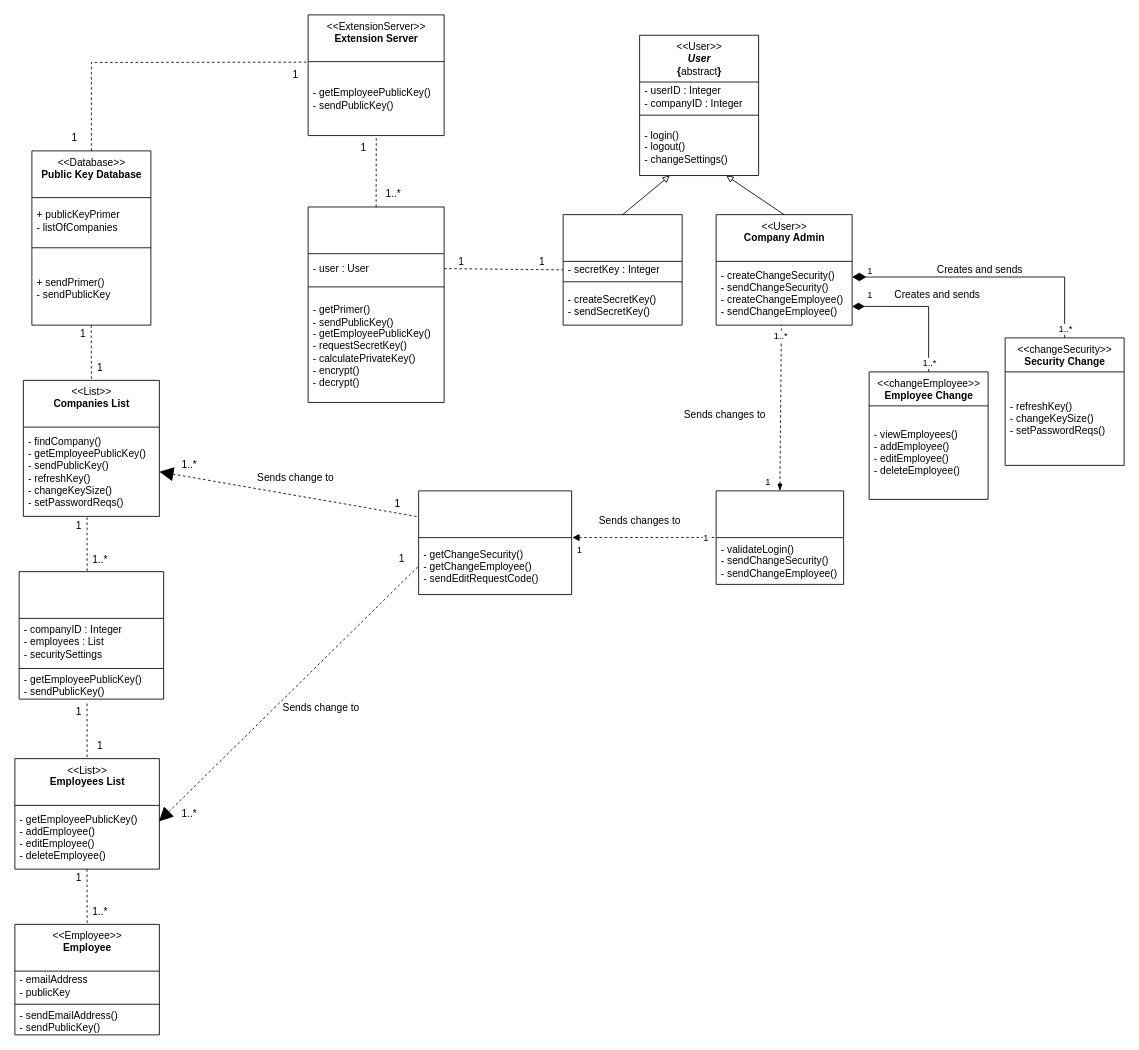
Some shapes in this 1139 by 1050 pixel diagram are drawn without their labels. The box of each missing label's shape, as (x1, y1, x2, y2) in pixels:
<<Company>> Company: (18, 571, 164, 699)
<<Controller>> Company Management: (418, 490, 572, 595)
<<Controller>> Website: (715, 490, 844, 584)
<<Extension>> Extension: (307, 206, 444, 402)
<<User>> End User: (562, 214, 682, 325)
